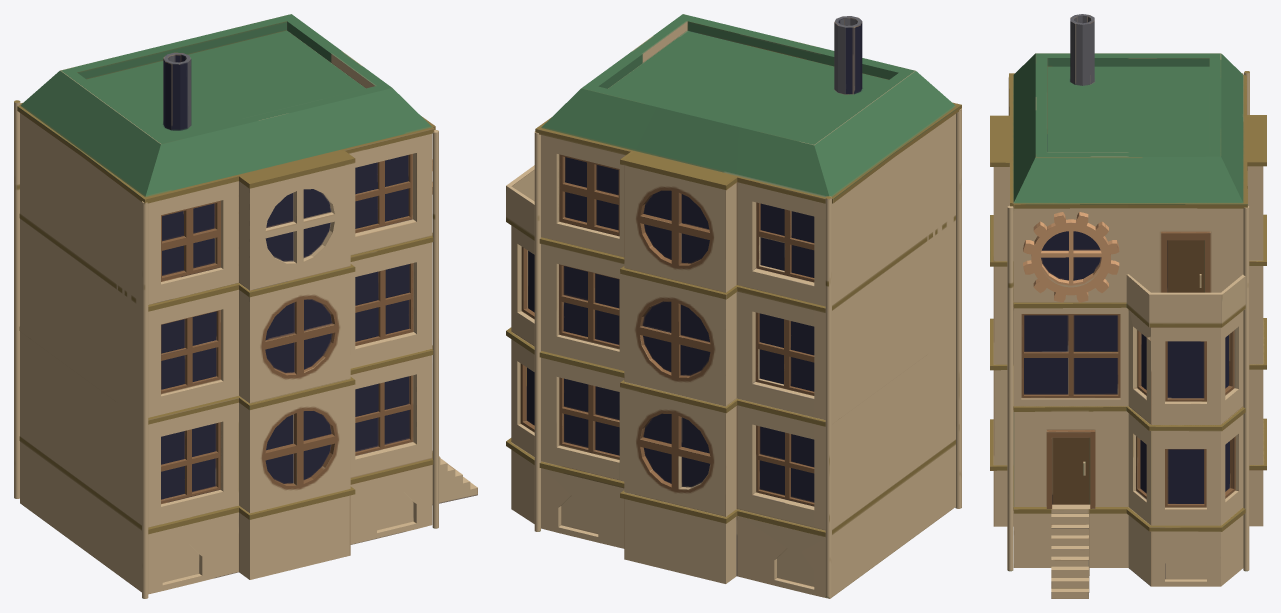
Rendered from BUIDINGA .fbx.
The picture shows the model from 3 angles, left to right: view 1: azimuth 30°, elevation 25°; view 2: azimuth 150°, elevation 25°; view 3: azimuth 270°, elevation 25°; orthographic projection. The views are drawn at different scales.
Parts seen in each view (by area): view 1: Cube; view 2: Cube; view 3: Cube.
Boxes of the visible parts, x1=… form: Cube: x1=14, y1=14, x2=477, y2=598; Cube: x1=506, y1=14, x2=961, y2=598; Cube: x1=990, y1=14, x2=1266, y2=598.
Size of the model in its own units: 10701 by 14128 by 7829.
1 material, 1 textured.
